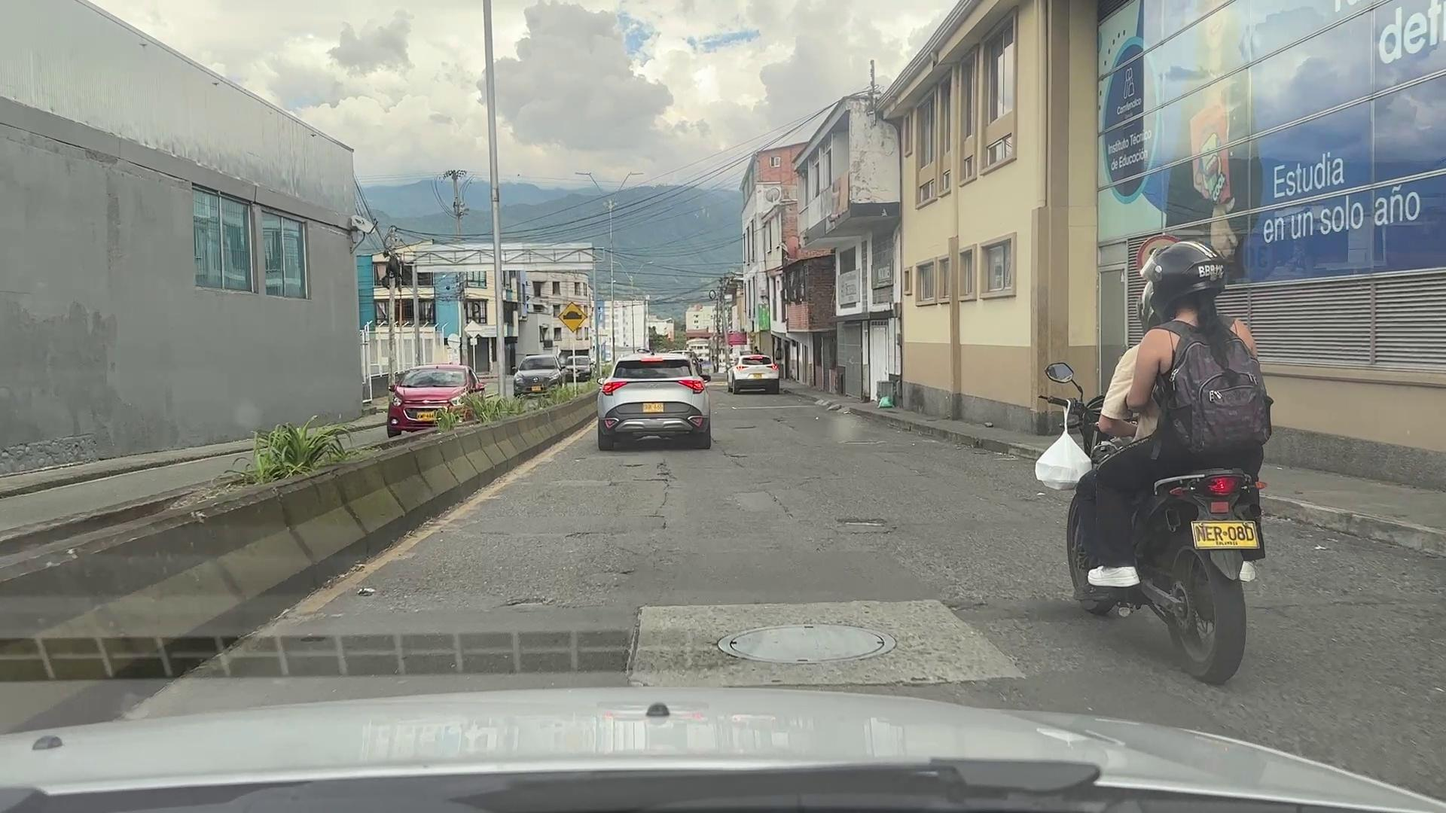bache: (840, 519, 886, 525), (507, 599, 543, 606), (732, 425, 757, 429), (619, 464, 645, 467), (730, 455, 748, 458)
grieta: (633, 458, 681, 529)
registro: (717, 624, 896, 664)
